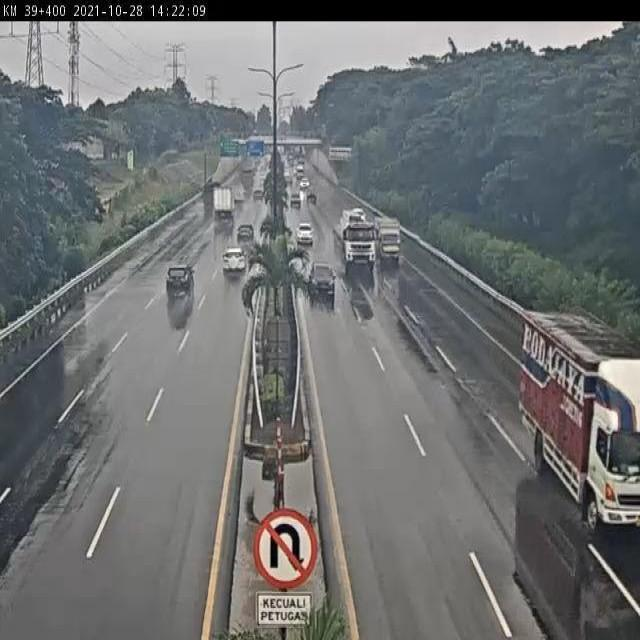car: (164, 260, 200, 299), (308, 260, 338, 301), (221, 246, 248, 278), (295, 220, 316, 248), (235, 219, 254, 245)
truck: (518, 308, 640, 535), (331, 207, 378, 272), (374, 211, 404, 269)
